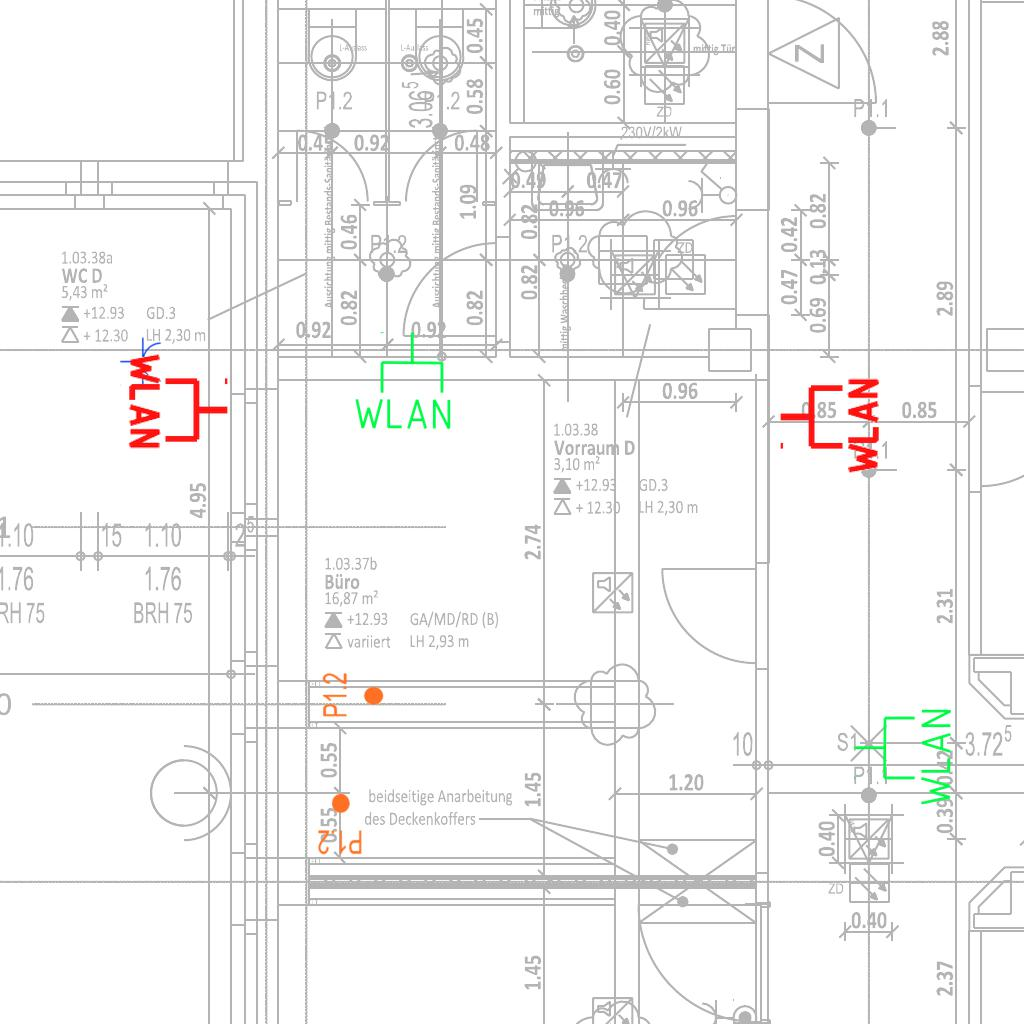Downlight_LED_Einbauleuchten_Flur: (321, 672, 385, 718), (317, 792, 363, 856)
Schukosteckdose_einfach: (120, 337, 163, 387)
WLAN: (776, 374, 881, 478), (851, 705, 955, 810), (350, 329, 455, 433), (127, 349, 232, 453)
